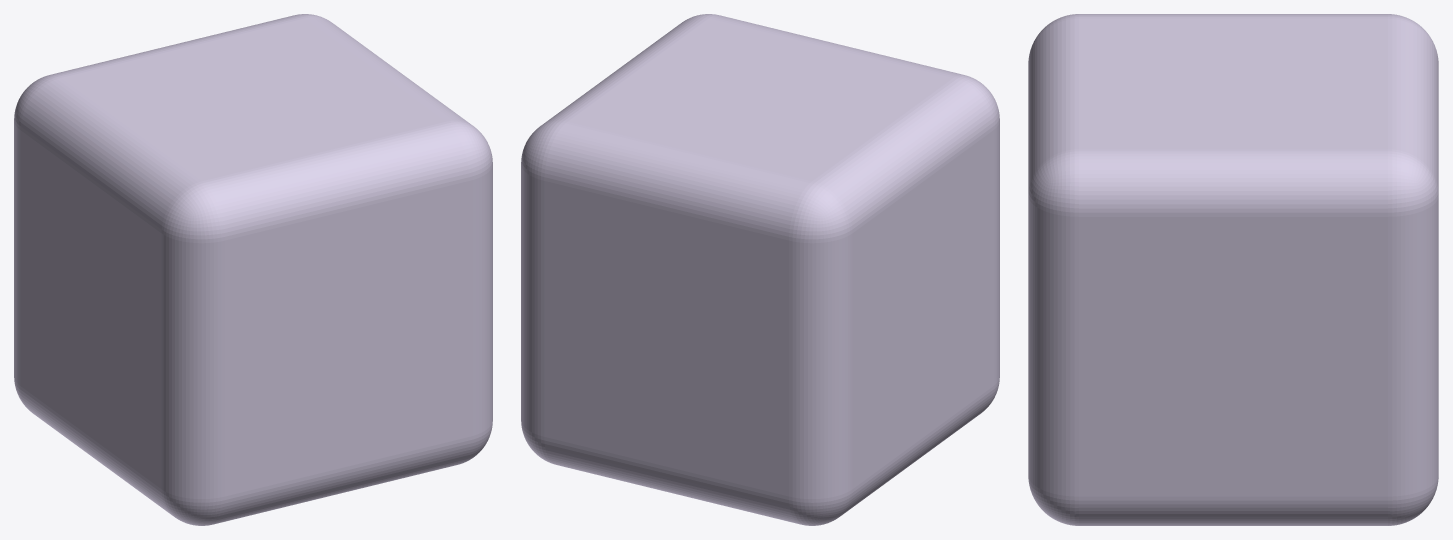
Rendered from Obstacle1.fbx.
3 renders of one model, left to right at view 1: azimuth 30°, elevation 25°; view 2: azimuth 150°, elevation 25°; view 3: azimuth 270°, elevation 25°, orthographic. The views are drawn at different scales.
Parts seen in each view (by area): view 1: Cube; view 2: Cube; view 3: Cube.
Part boxes in pixels (box(x1,y1,x2,y2)): Cube: box(14, 14, 492, 525); Cube: box(521, 14, 999, 525); Cube: box(1028, 14, 1438, 525).
Size of the model in its own units: 200 by 200 by 200.
